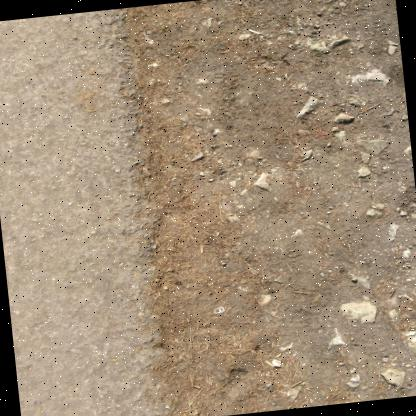Cigarette: (248, 29, 261, 34)
Pop tab: (213, 305, 224, 314)
